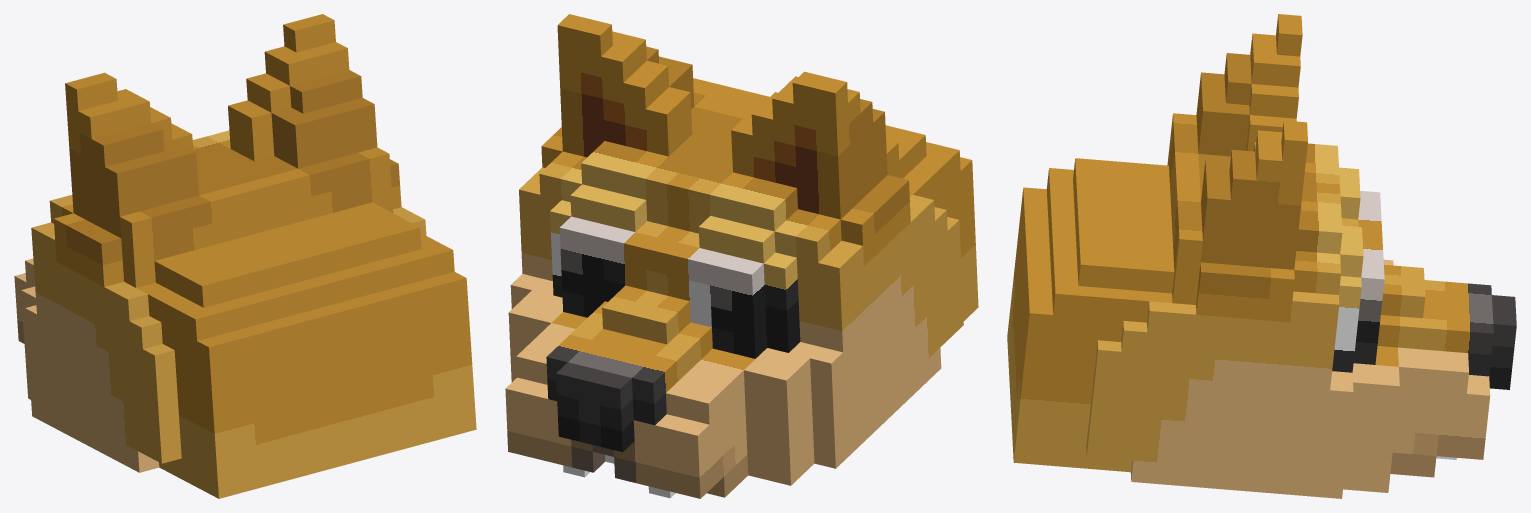
Rendered from doge-head-hat.gltf.
The picture shows the model from 3 angles, left to right: view 1: azimuth 30°, elevation 25°; view 2: azimuth 150°, elevation 25°; view 3: azimuth 270°, elevation 25°; orthographic projection. The views are drawn at different scales.
Parts seen in each view (by area): view 1: Equip_Head-Local; view 2: Equip_Head-Local; view 3: Equip_Head-Local.
Boxes of the visible parts, box(x1,y1,x2,y2) form: Equip_Head-Local: box(14, 14, 476, 498); Equip_Head-Local: box(505, 14, 978, 498); Equip_Head-Local: box(1007, 14, 1516, 498).
Bounding box in the file's own units: 15.31 × 16.92 × 21.65.
1 material, 1 textured.
